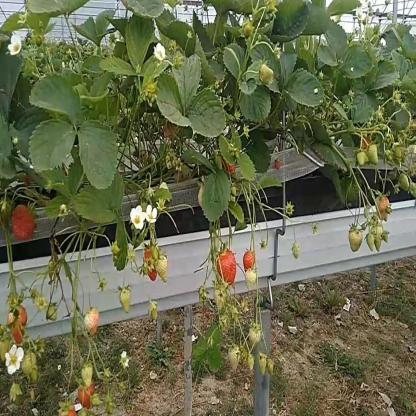ripe: (12, 204, 36, 238), (216, 251, 238, 285), (143, 246, 158, 285), (10, 304, 28, 325), (78, 387, 94, 410), (58, 396, 76, 416), (11, 324, 25, 346), (9, 383, 23, 405), (362, 132, 373, 154), (243, 250, 254, 270), (224, 159, 236, 173), (383, 230, 391, 246), (274, 158, 282, 172)
unripe: (21, 354, 38, 380), (155, 258, 170, 286), (84, 307, 100, 332), (376, 197, 391, 222), (118, 289, 132, 315), (348, 228, 361, 253), (371, 225, 383, 250), (0, 336, 9, 368), (81, 364, 94, 386), (249, 326, 262, 348), (229, 344, 239, 371), (46, 303, 59, 323), (367, 144, 380, 163), (259, 64, 273, 81), (213, 291, 225, 310), (365, 234, 375, 254), (148, 302, 158, 320), (398, 174, 408, 192), (245, 269, 256, 285), (258, 356, 267, 375), (392, 142, 402, 158), (356, 151, 366, 166), (267, 360, 276, 376), (292, 243, 300, 259), (247, 356, 254, 373), (112, 245, 122, 254)
